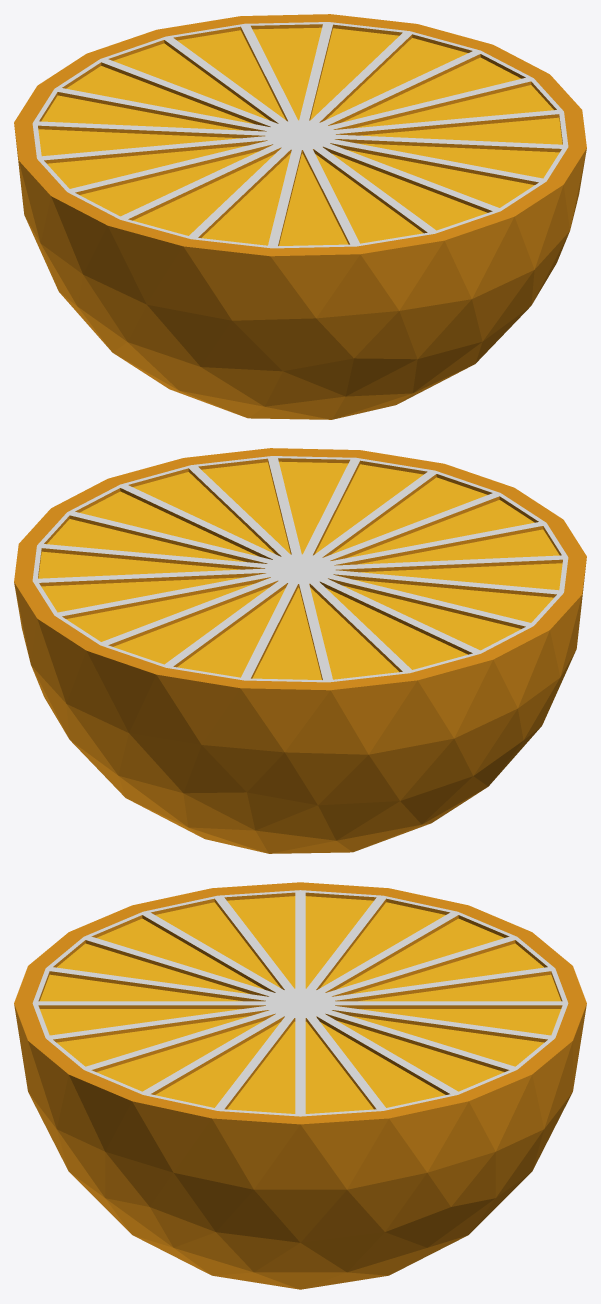
The model's file is orange.fbx.
3 renders of one model, top to bottom at view 1: azimuth 30°, elevation 25°; view 2: azimuth 150°, elevation 25°; view 3: azimuth 270°, elevation 25°, orthographic.
Visible parts, largest first — view 1: Icosphere.002; view 2: Icosphere.002; view 3: Icosphere.002.
Boxes of the visible parts, x1,y1,x2,y2 form: Icosphere.002: [14, 14, 586, 419]; Icosphere.002: [14, 448, 586, 853]; Icosphere.002: [14, 882, 586, 1289].
Bounding box in the file's own units: 200 × 100 × 200.
